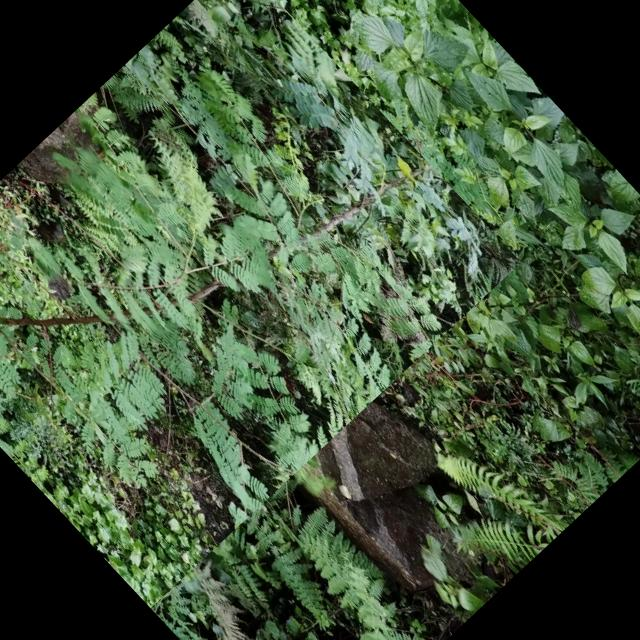Mysore-Thorn-Weed: (0, 0, 521, 607)
